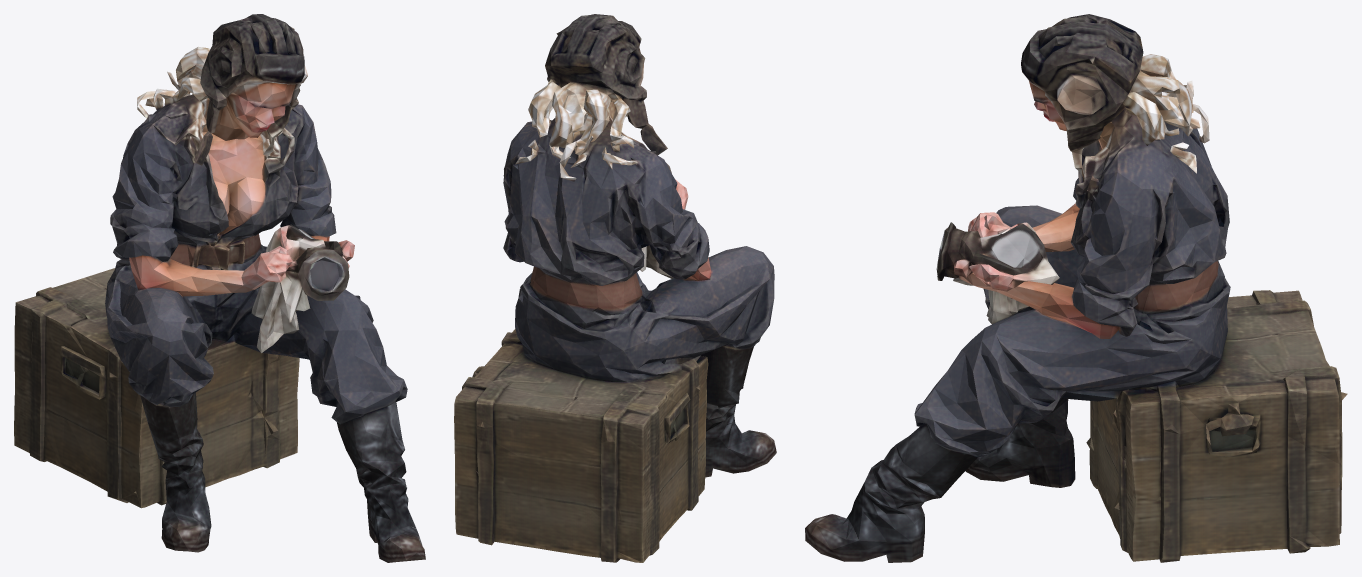
File: crew_su_gunner_4_idle.obj
The picture shows the model from 3 angles, left to right: view 1: azimuth 30°, elevation 25°; view 2: azimuth 150°, elevation 25°; view 3: azimuth 270°, elevation 25°; orthographic projection. The views are drawn at different scales.
Parts seen in each view (by area): view 1: crew_su_gunner_4_idle; view 2: crew_su_gunner_4_idle; view 3: crew_su_gunner_4_idle.
Part boxes in pixels (x1=…): crew_su_gunner_4_idle: x1=14, y1=14, x2=425, y2=562; crew_su_gunner_4_idle: x1=454, y1=14, x2=776, y2=562; crew_su_gunner_4_idle: x1=805, y1=14, x2=1347, y2=562.
Bounding box in the file's own units: 0.755 × 1.42 × 1.36.
1 material, 1 textured.
